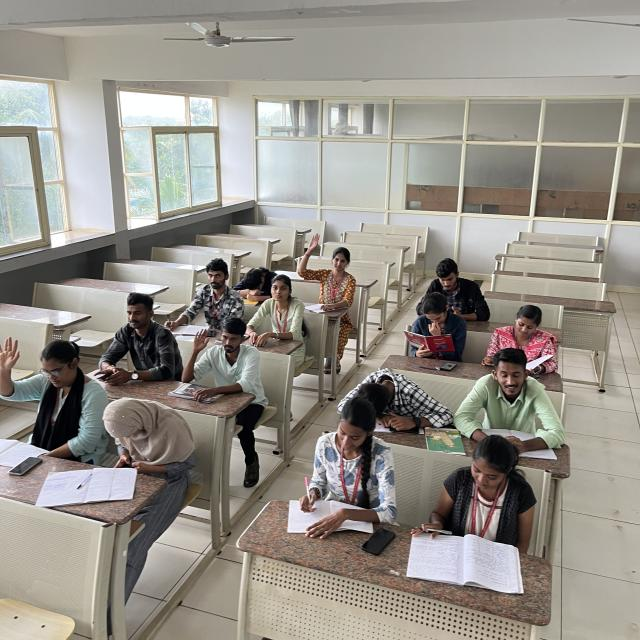Hand Rising: (0, 331, 99, 441), (177, 322, 269, 395), (298, 234, 380, 315)
Reading: (408, 434, 528, 588), (324, 357, 453, 438), (474, 296, 570, 374), (392, 296, 471, 366)
Sleeping: (234, 259, 294, 312)
Using Phone: (91, 392, 203, 474), (406, 250, 507, 326)
Writing: (283, 416, 403, 543)
